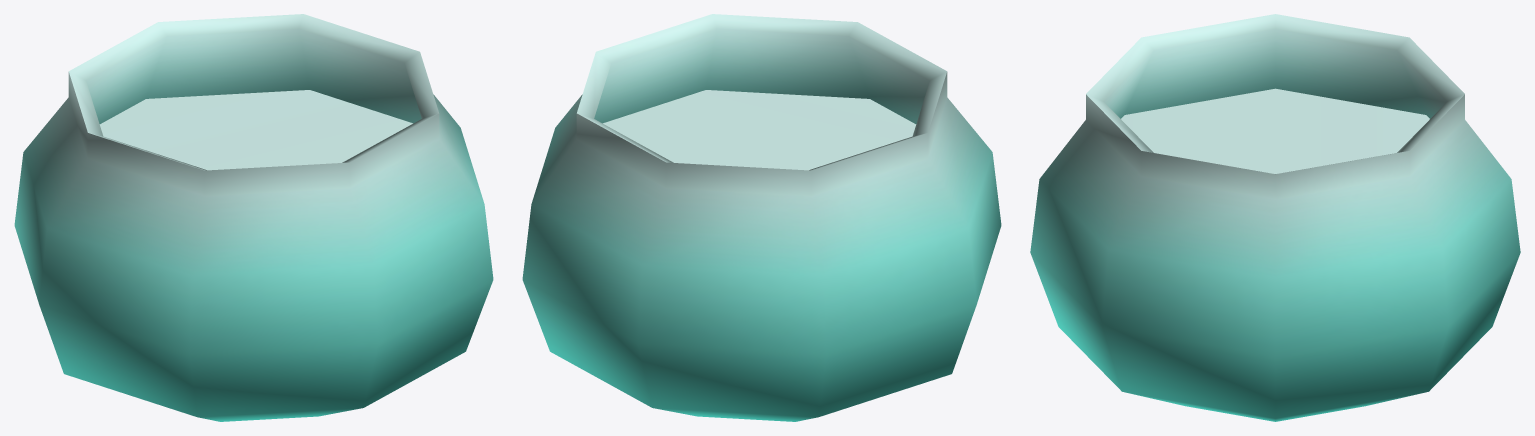
File: aquario.fbx
The picture shows the model from 3 angles, left to right: view 1: azimuth 30°, elevation 25°; view 2: azimuth 150°, elevation 25°; view 3: azimuth 270°, elevation 25°; orthographic projection.
Visible parts, largest first — view 1: aquario, agua; view 2: aquario, agua; view 3: aquario, agua.
Boxes of the visible parts, x1,y1,x2,y2 form: aquario: (14, 14, 493, 421); agua: (99, 90, 412, 170); aquario: (522, 14, 1001, 421); agua: (603, 90, 916, 170); aquario: (1030, 14, 1520, 421); agua: (1121, 88, 1429, 173).
Bounding box in the file's own units: 17.09 × 10.53 × 17.09.
Materials: 5 (5 with a texture image).
